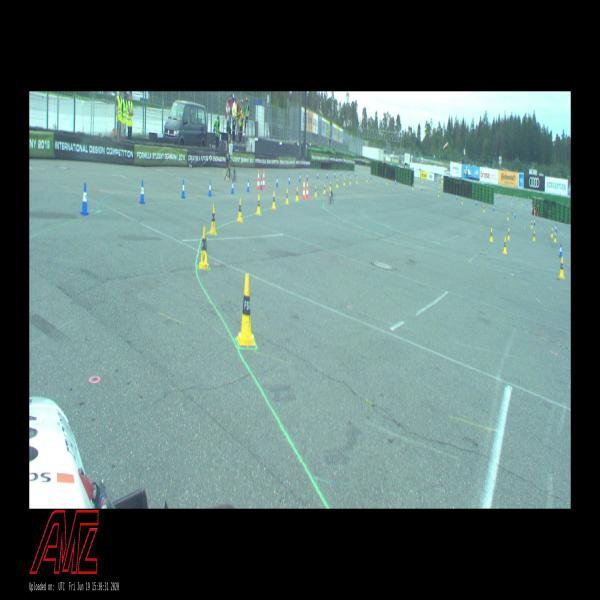blue_cone: (81, 182, 88, 214), (140, 180, 146, 203), (182, 180, 186, 198), (208, 181, 212, 196), (246, 178, 250, 192), (231, 179, 234, 194), (559, 244, 562, 257), (260, 177, 263, 190), (288, 174, 290, 185), (276, 176, 278, 187), (555, 224, 557, 233), (299, 173, 301, 182), (306, 172, 308, 180), (514, 210, 516, 218), (316, 172, 318, 179), (326, 171, 328, 178), (348, 169, 350, 176), (334, 172, 336, 178), (340, 170, 342, 176), (355, 171, 357, 177), (493, 204, 495, 210), (370, 174, 372, 179), (532, 206, 533, 215), (534, 217, 535, 225), (476, 199, 477, 205), (456, 194, 457, 200), (395, 178, 396, 184), (421, 186, 422, 190)
large_orange_cone: (302, 178, 306, 200), (256, 170, 260, 190), (262, 170, 266, 189), (306, 180, 309, 198)
yellow_cone: (237, 274, 256, 346), (199, 226, 209, 269), (210, 205, 217, 234), (558, 257, 565, 278), (237, 198, 243, 221), (256, 194, 261, 214), (503, 237, 507, 254), (272, 192, 276, 208), (489, 228, 493, 242), (532, 230, 536, 241), (507, 228, 510, 240), (286, 189, 288, 204), (314, 186, 317, 196), (329, 181, 332, 190), (296, 187, 298, 200), (324, 184, 326, 194), (551, 228, 553, 238), (554, 233, 556, 242), (531, 220, 533, 228), (336, 180, 338, 188), (349, 176, 351, 184), (507, 212, 509, 220), (343, 178, 345, 185), (366, 176, 368, 183), (483, 205, 485, 212), (461, 197, 463, 204), (356, 177, 358, 183), (412, 184, 414, 190), (534, 206, 535, 215), (386, 178, 387, 184), (438, 191, 439, 197)
